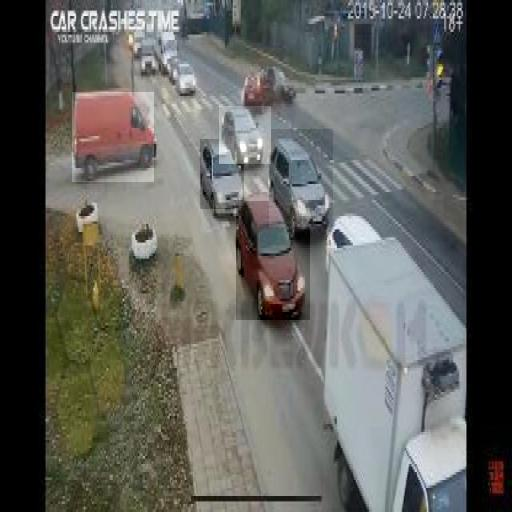小汽车: (323, 242, 462, 508), (236, 201, 310, 320), (72, 92, 154, 182), (269, 129, 333, 227), (200, 139, 244, 209), (220, 106, 272, 164), (134, 37, 165, 76), (174, 60, 196, 94)
